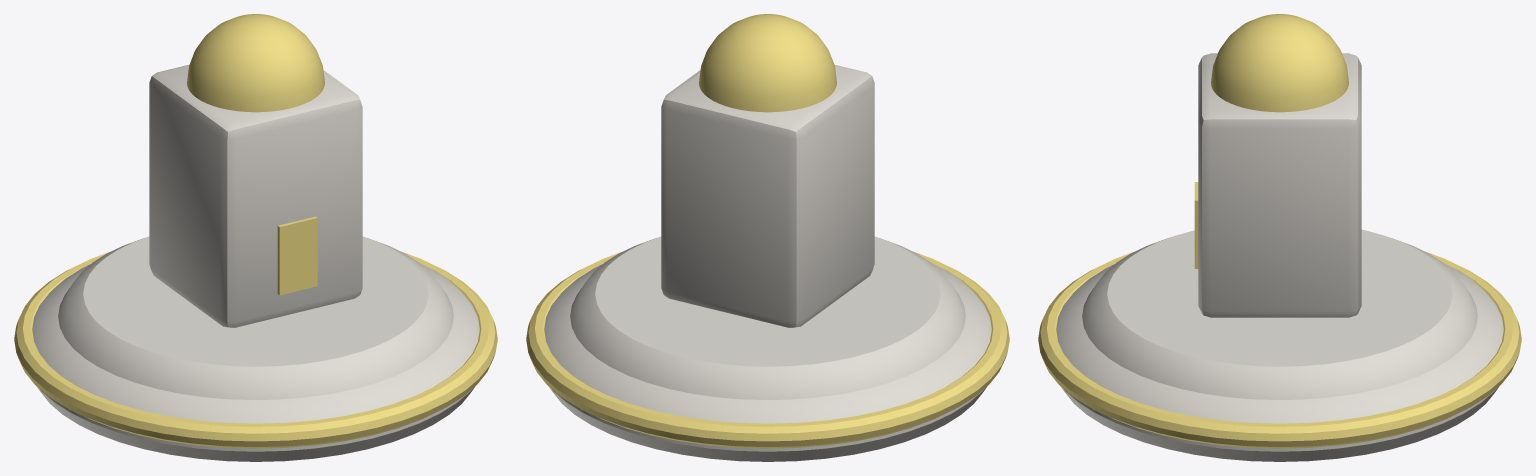
File: Santorini_Peon.fbx
3 views of the same model, side by side, from view 1: azimuth 30°, elevation 25°; view 2: azimuth 150°, elevation 25°; view 3: azimuth 270°, elevation 25° (orthographic).
Parts seen in each view (by area): view 1: Santorini_Peon; view 2: Santorini_Peon; view 3: Santorini_Peon.
Boxes of the visible parts, <box> form: Santorini_Peon: <box>14,14,497,461</box>; Santorini_Peon: <box>526,14,1009,461</box>; Santorini_Peon: <box>1038,14,1521,461</box>.
Bounding box in the file's own units: 0.77 × 0.61 × 0.77.
